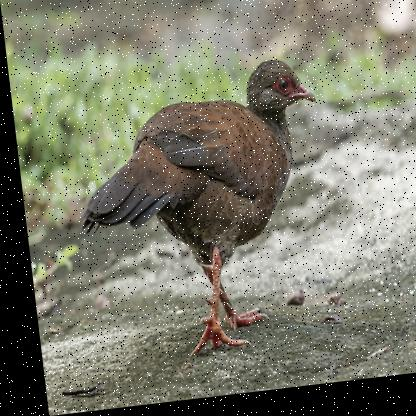Burung: (60, 62, 338, 367)
